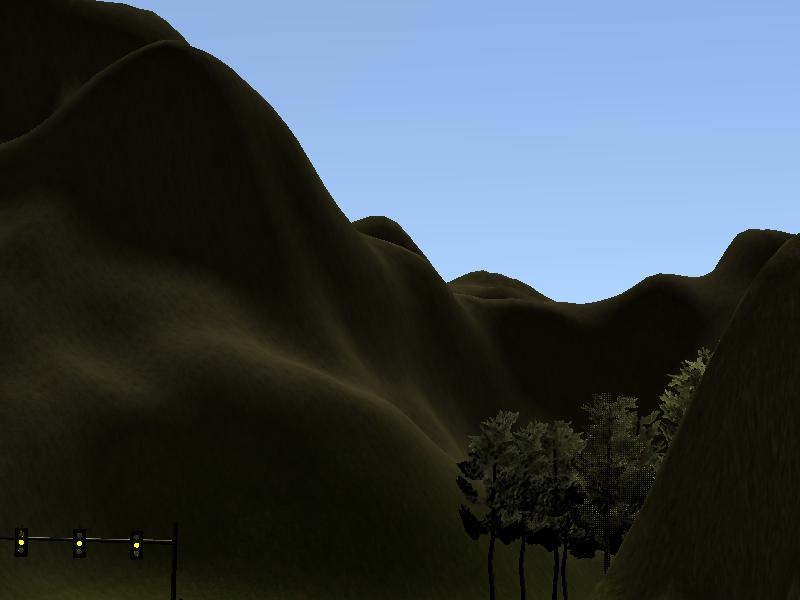YELLOW: (13, 525, 28, 562), (70, 525, 85, 562), (128, 525, 143, 562)
